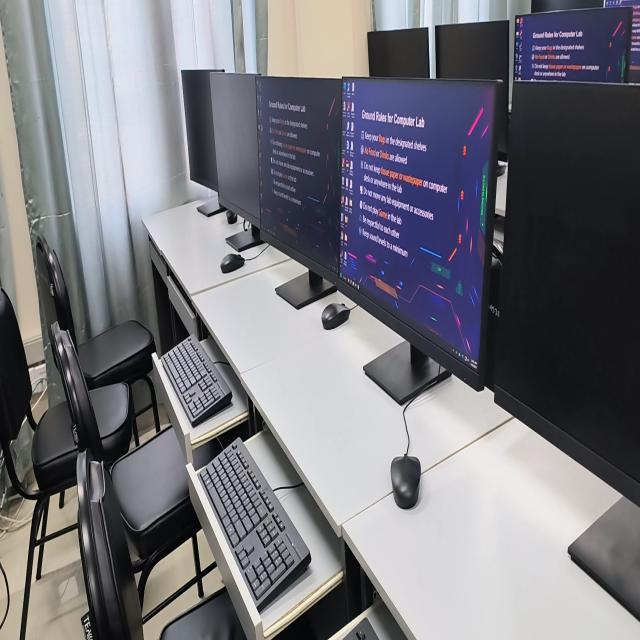Chair: (53, 324, 215, 610), (0, 287, 80, 639), (37, 238, 160, 431), (77, 450, 143, 639), (160, 590, 246, 639), (89, 383, 134, 463)
Keyboard: (197, 439, 310, 612), (160, 336, 232, 427)
Monitor: (491, 82, 640, 505), (340, 79, 500, 379), (256, 78, 340, 276), (513, 7, 631, 82), (210, 74, 260, 225), (435, 20, 509, 113), (181, 70, 224, 191), (368, 28, 430, 78)
Mouse: (391, 455, 421, 508), (321, 303, 350, 329), (220, 254, 245, 273), (226, 210, 237, 223)
